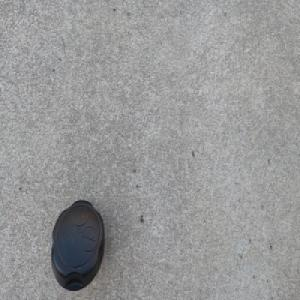FuelCap: (50, 198, 105, 293)
